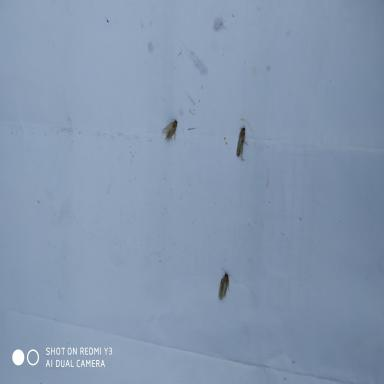pbw: (212, 264, 236, 306), (234, 122, 250, 164), (158, 114, 180, 143)
